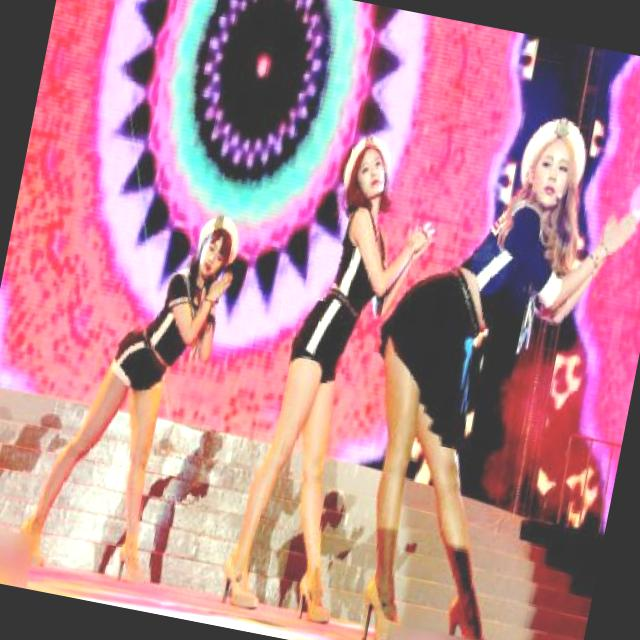Person: (355, 82, 629, 640), (213, 110, 443, 630), (25, 172, 254, 590)
